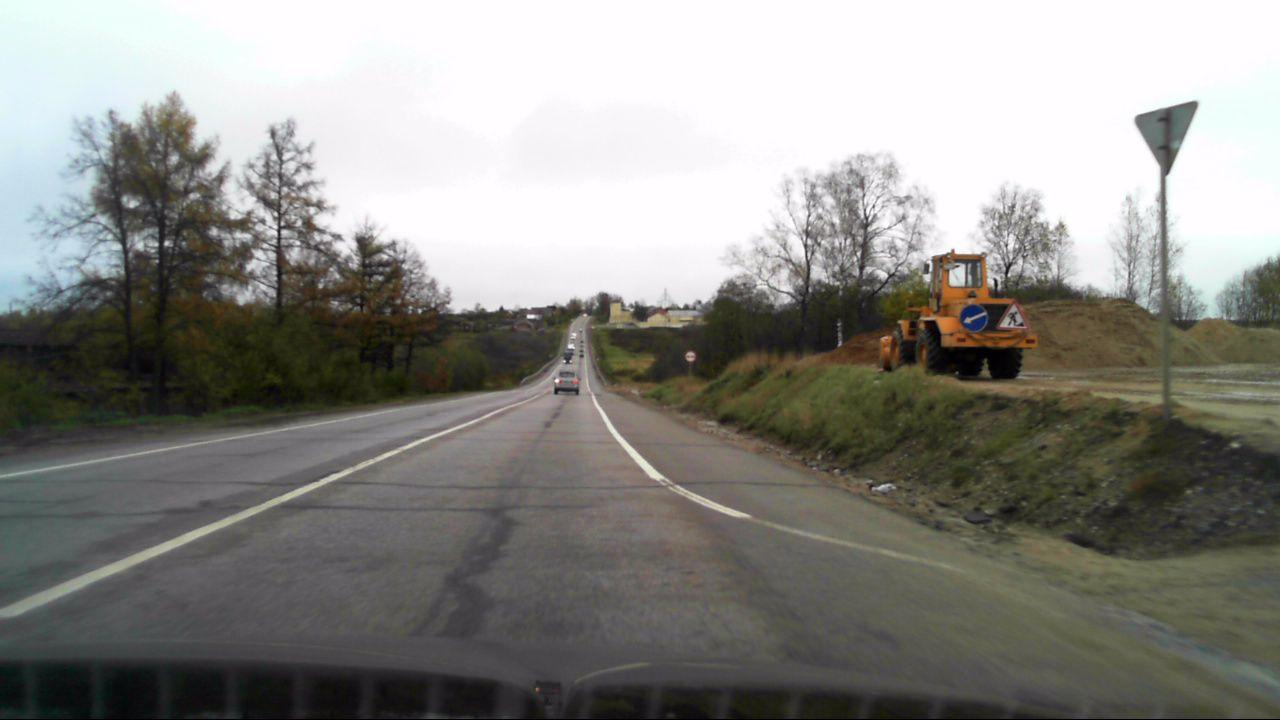1_25: (995, 300, 1029, 332)
3_20: (683, 350, 697, 363)
4_2_2: (959, 303, 989, 332)
